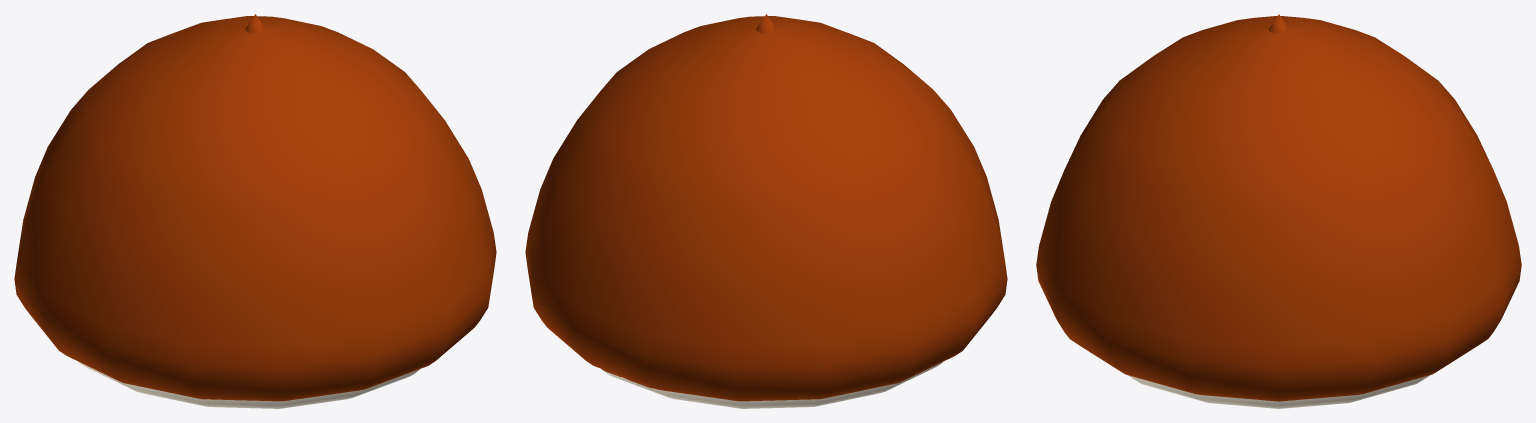
The model's file is chestnut.gltf.
The picture shows the model from 3 angles, left to right: view 1: azimuth 30°, elevation 25°; view 2: azimuth 150°, elevation 25°; view 3: azimuth 270°, elevation 25°; orthographic projection.
Visible parts, largest first — view 1: Circle.2200; view 2: Circle.2200; view 3: Circle.2200.
Boxes of the visible parts, bbox=[...] form: Circle.2200: bbox=[14, 14, 496, 408]; Circle.2200: bbox=[525, 14, 1007, 408]; Circle.2200: bbox=[1036, 14, 1521, 408].
Bounding box in the file's own units: 2.14 × 1.61 × 2.14.
1 material, 1 textured.
